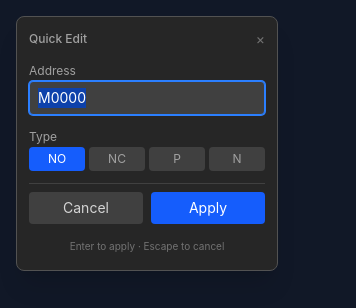
Scenario: InlineEditPopover › shows validation error for invalid address
Type "X9999" into the field showing "M0000" at {"x": 147, "y": 98}, box [29, 81, 265, 115]
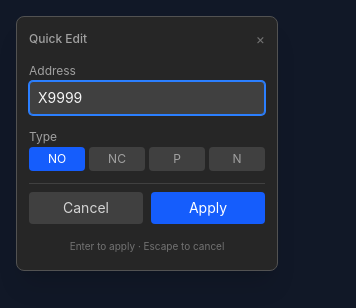
Click the button "Apply" at {"x": 208, "y": 208}, box [151, 192, 265, 224]
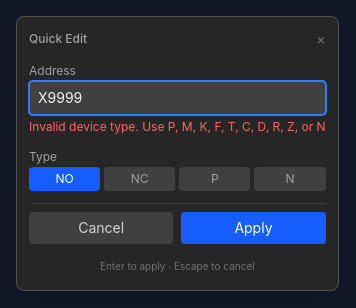
Check: the text "Invalid device type. Use P, M, K, F, T, C, D, R, Z, or N" is shown, box [29, 119, 326, 135]
